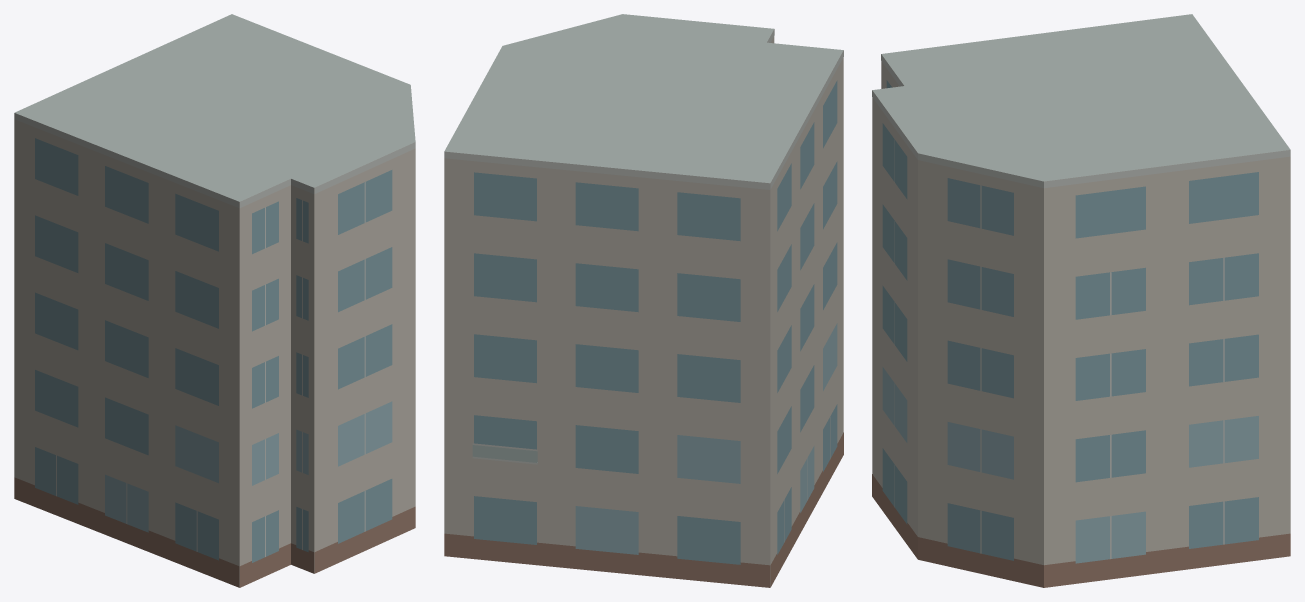
Rendered from survey-upis-32623654.glb.
3 views of the same model, side by side, from view 1: azimuth 30°, elevation 25°; view 2: azimuth 150°, elevation 25°; view 3: azimuth 270°, elevation 25° (orthographic). The views are drawn at different scales.
Visible parts, largest first — view 1: survey-upis-32623654.tmp; view 2: survey-upis-32623654.tmp; view 3: survey-upis-32623654.tmp.
Part boxes in pixels (bbox=[...]): survey-upis-32623654.tmp: bbox=[14, 14, 415, 587]; survey-upis-32623654.tmp: bbox=[444, 14, 843, 587]; survey-upis-32623654.tmp: bbox=[872, 14, 1290, 587].
Size of the model in its own units: 13.01 by 14.7 by 13.73.
